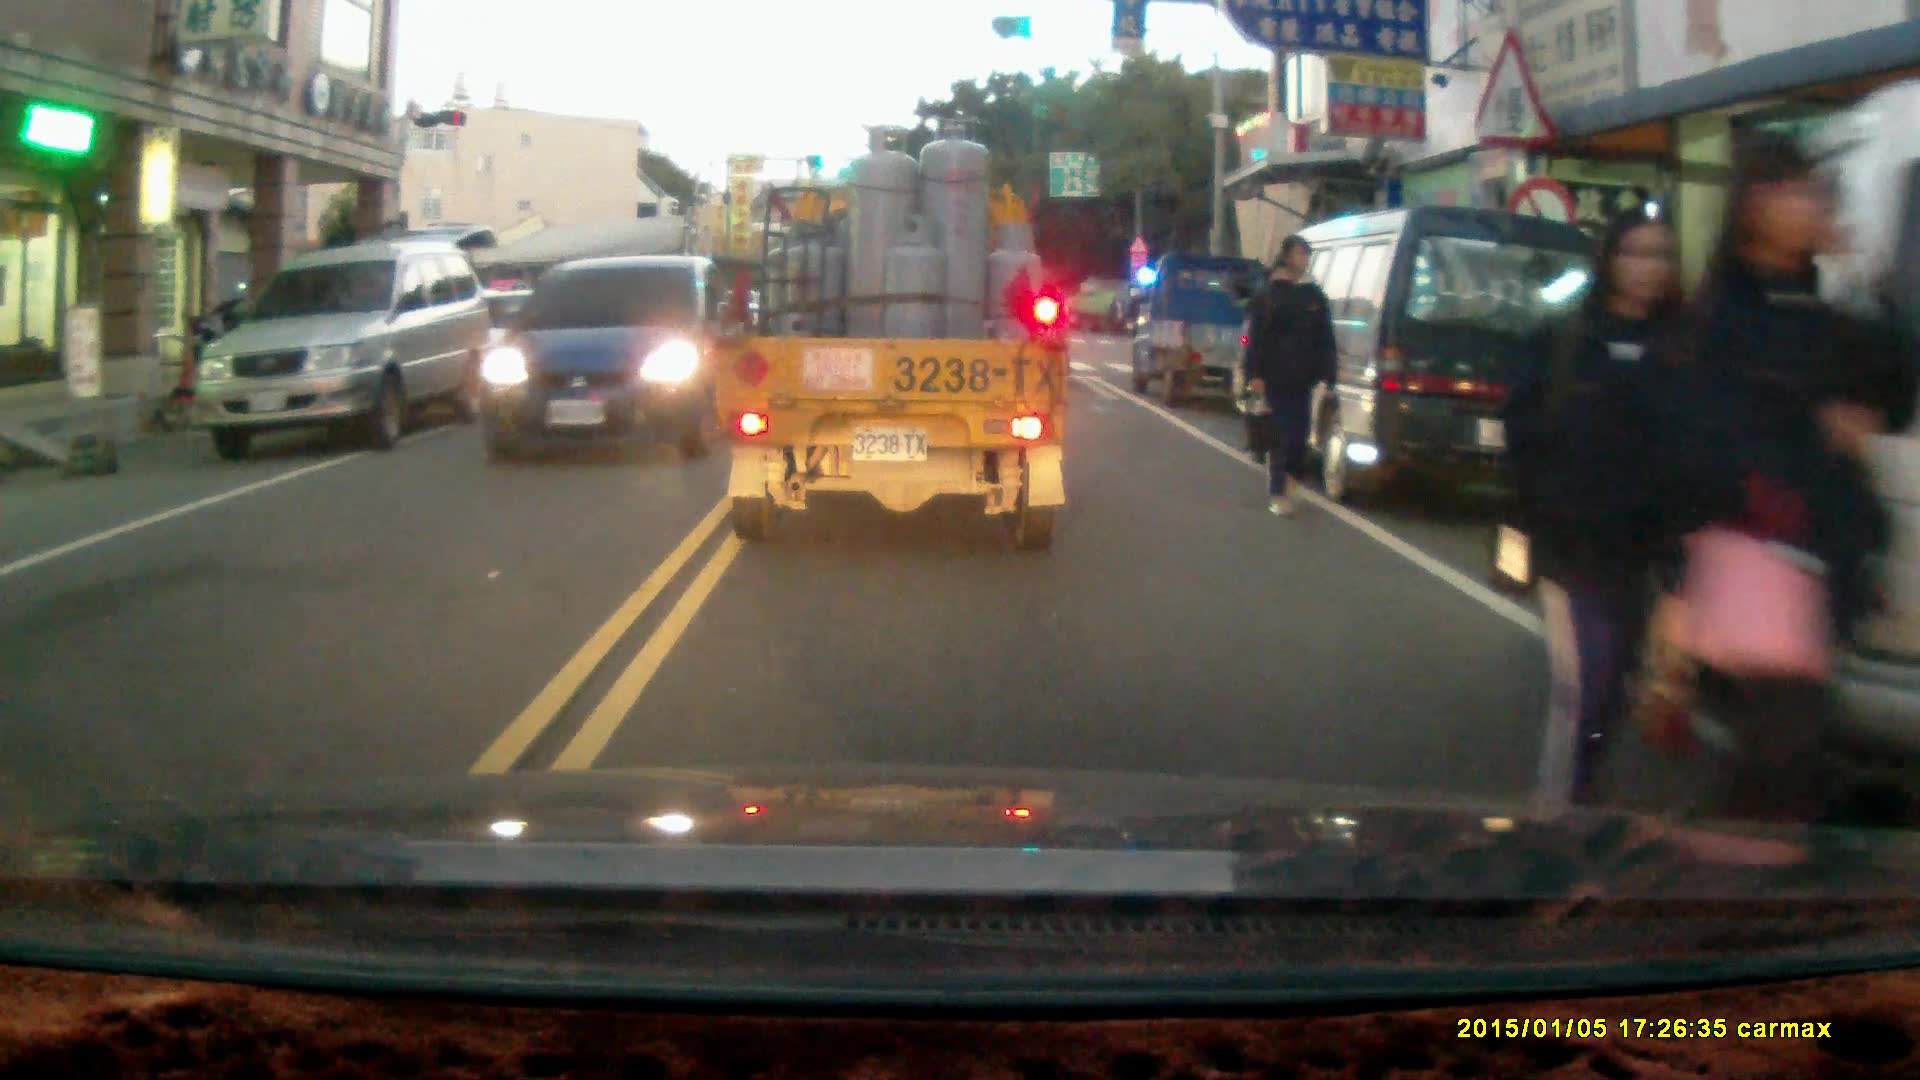pedestrian: (1597, 123, 1910, 848), (1510, 203, 1714, 860), (1246, 234, 1348, 524)
vehicle: (1639, 107, 1920, 794), (713, 120, 1073, 541), (1236, 203, 1618, 526), (199, 243, 496, 459), (478, 257, 761, 460), (414, 287, 592, 412), (1124, 249, 1253, 402)
